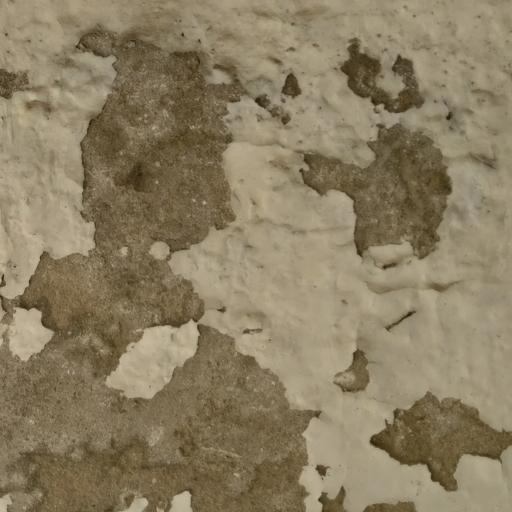peeling: (0, 0, 331, 512), (278, 107, 461, 252), (369, 363, 512, 512), (324, 26, 435, 114), (321, 337, 383, 397)
